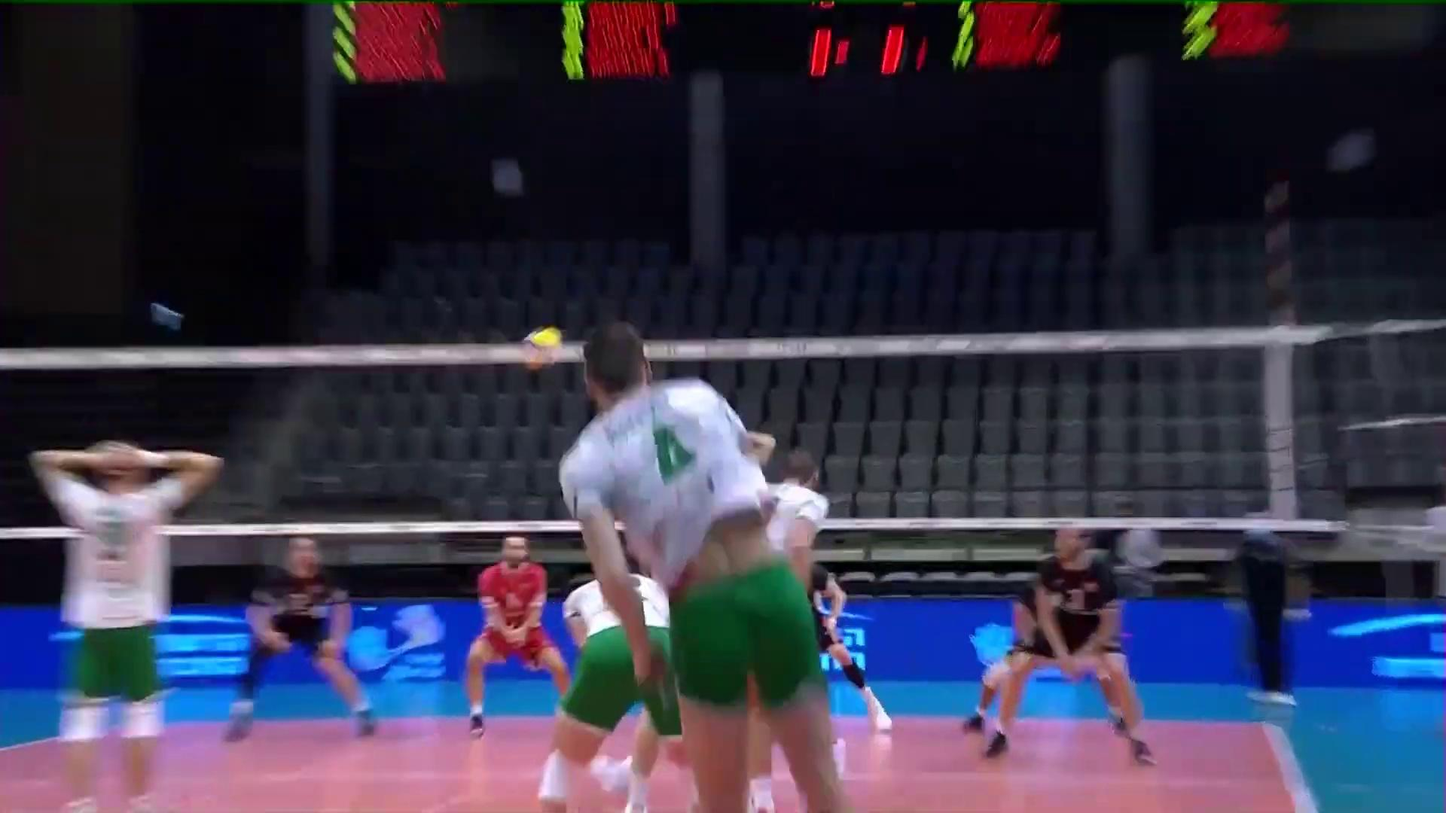ball: (515, 320, 566, 368)
